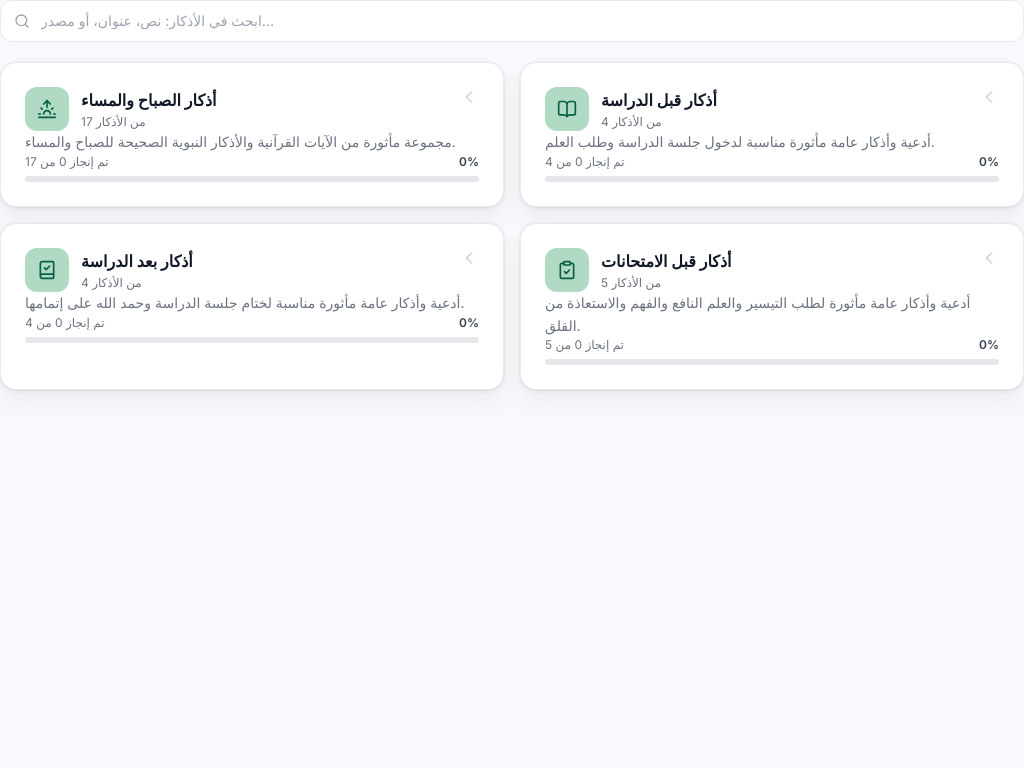
Test: AdhkarPage overview › navigates into a category and back to the overview
This screenshot has width=1024, height=768.
Click the button "أذكار قبل الدراسة" at (772, 134), box [520,62,1023,207]
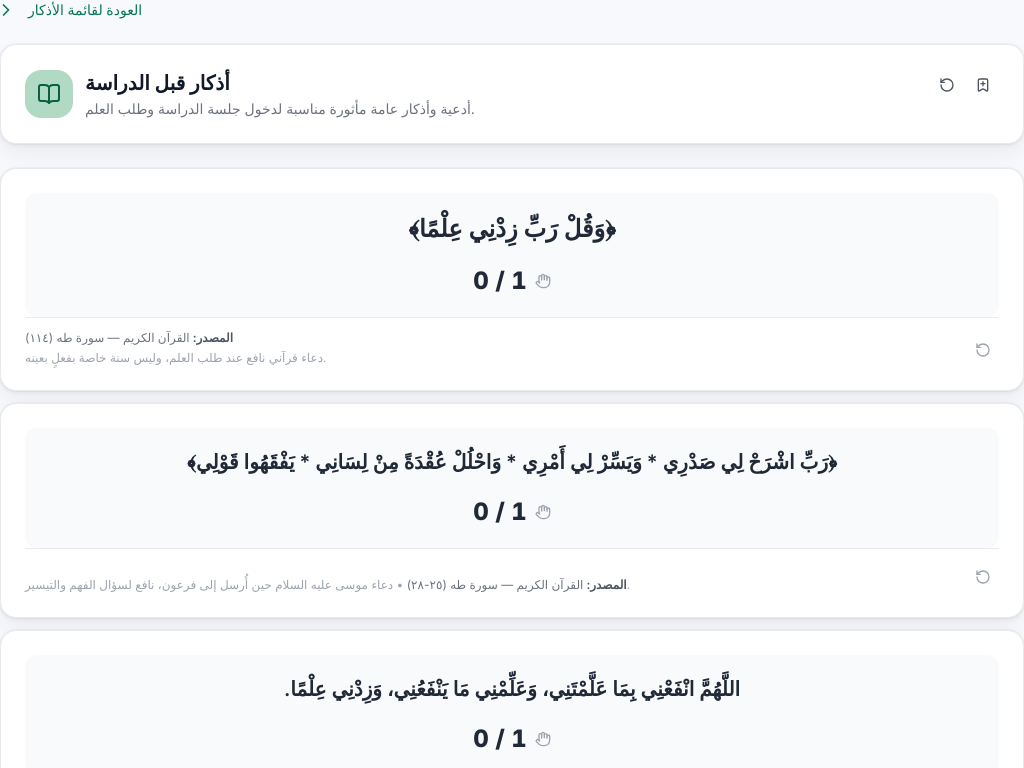
Expected: the heading "أذكار قبل الدراسة" is shown, [85,71,230,95]
Click the button "العودة لقائمة الأذكار" at (71, 10), box [0,0,142,20]
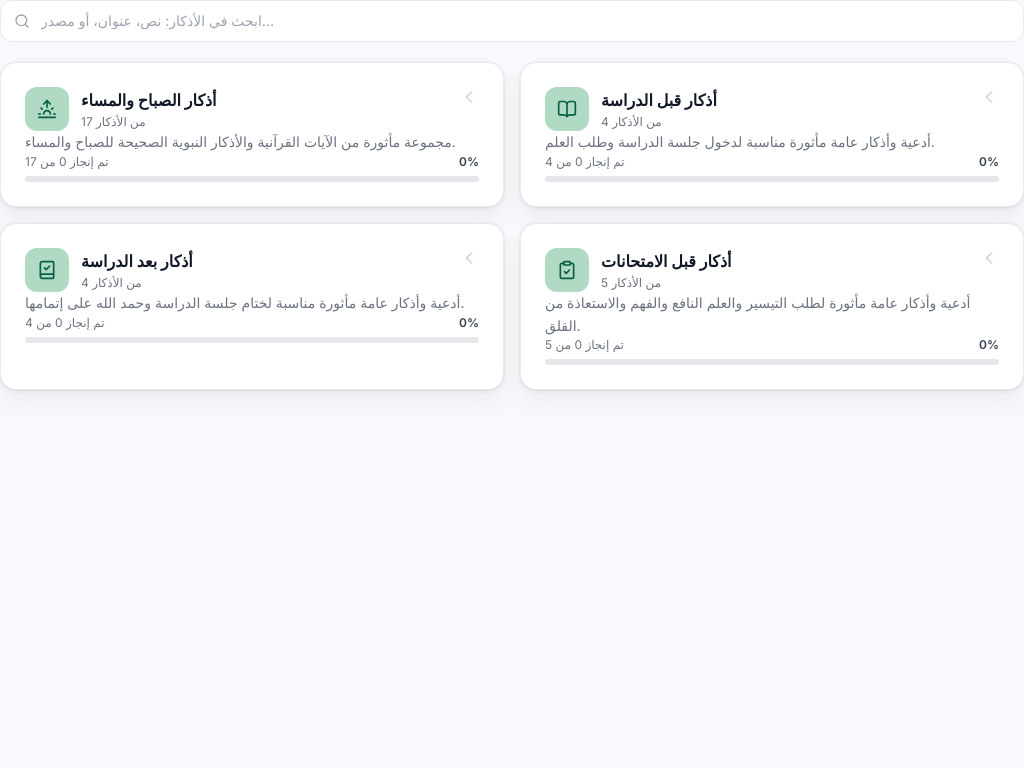
Expected: the button "أذكار الصباح والمساء" is shown, [0,62,504,207]
